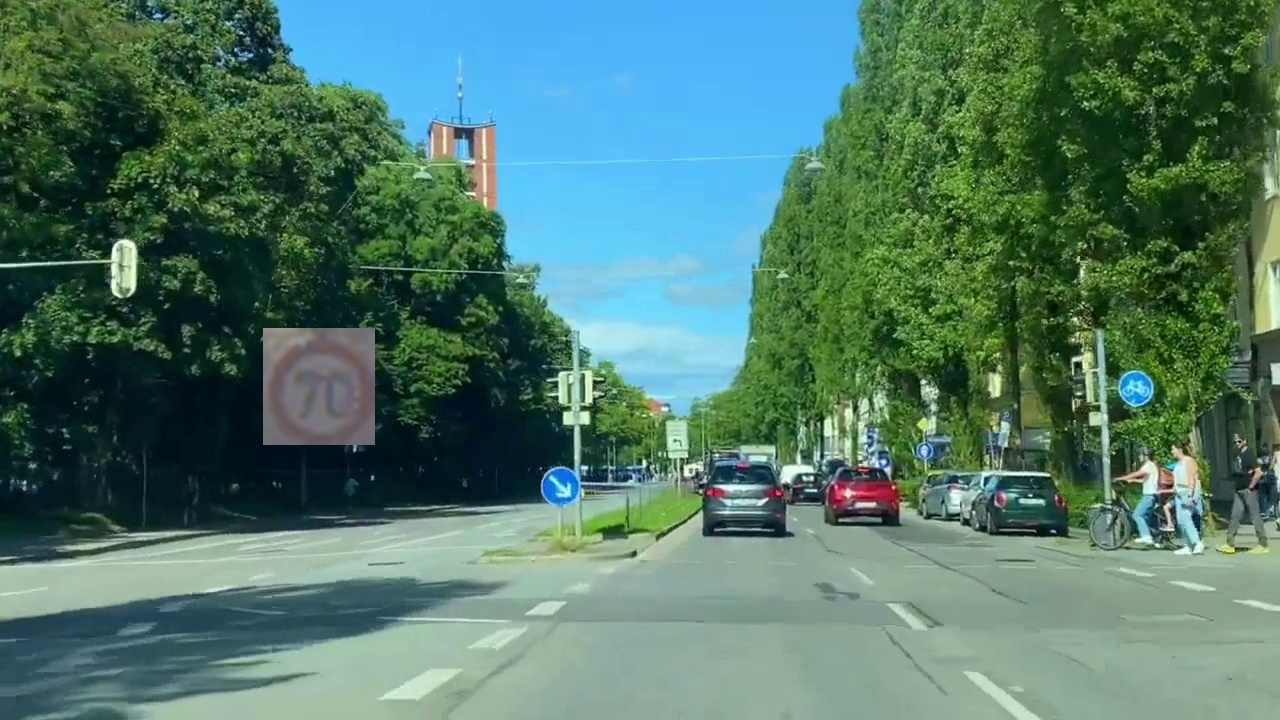Speed 70: (263, 328, 375, 445)
